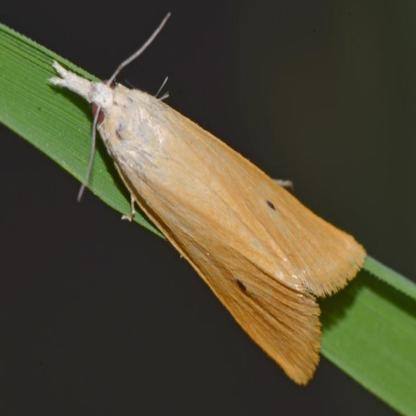stem-borer: (49, 11, 366, 386)
